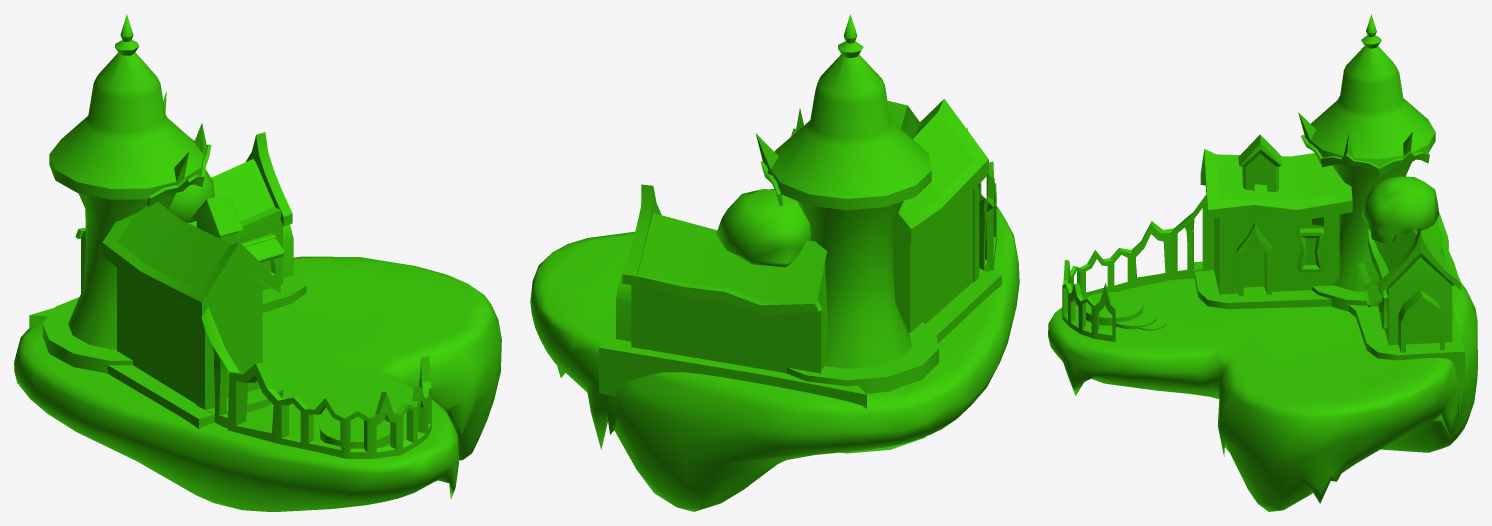
Rendered from dormitory.fbx.
3 renders of one model, left to right at view 1: azimuth 30°, elevation 25°; view 2: azimuth 150°, elevation 25°; view 3: azimuth 270°, elevation 25°, orthographic. The views are drawn at different scales.
Parts seen in each view (by area): view 1: Plane_001.001, 1 modul dormitory, 2 modul dormitory, 3 modul dormitory; view 2: Plane_001.001, 3 modul dormitory, 2 modul dormitory, 1 modul dormitory; view 3: Plane_001.001, 1 modul dormitory, 3 modul dormitory, 2 modul dormitory.
Boxes of the visible parts, x1,y1,x2,y2 form: Plane_001.001: (14, 256, 501, 511); 1 modul dormitory: (102, 193, 431, 458); 2 modul dormitory: (42, 14, 211, 373); 3 modul dormitory: (29, 132, 306, 328); Plane_001.001: (530, 197, 1019, 511); 3 modul dormitory: (599, 184, 866, 447); 2 modul dormitory: (755, 14, 938, 453); 1 modul dormitory: (887, 99, 1001, 343); Plane_001.001: (1048, 278, 1477, 511); 1 modul dormitory: (1062, 134, 1352, 341); 3 modul dormitory: (1348, 176, 1465, 387); 2 modul dormitory: (1298, 14, 1435, 311).
Size of the model in its own units: 1969 by 2062 by 2069.
